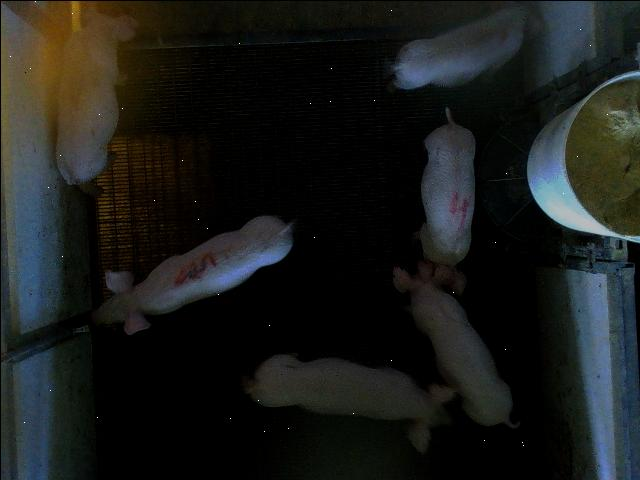pig-1: (55, 11, 134, 184)
pig-3: (91, 215, 294, 334)
pig-4: (416, 107, 475, 295)
pig-5: (386, 3, 540, 89)
